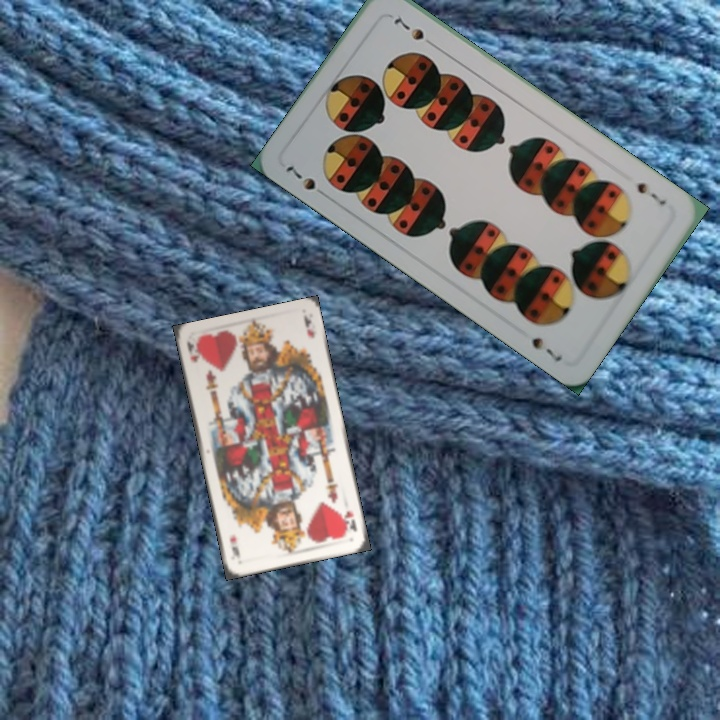HK: (339, 507, 360, 538), (183, 337, 202, 365)
S7: (282, 161, 331, 201), (633, 178, 669, 208)
